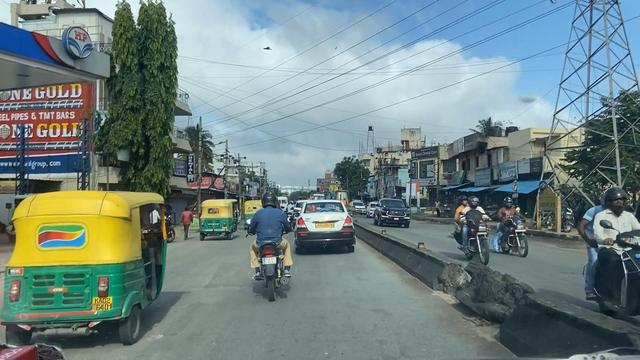LMV: (8, 191, 169, 341), (249, 186, 292, 305), (298, 198, 355, 256)
